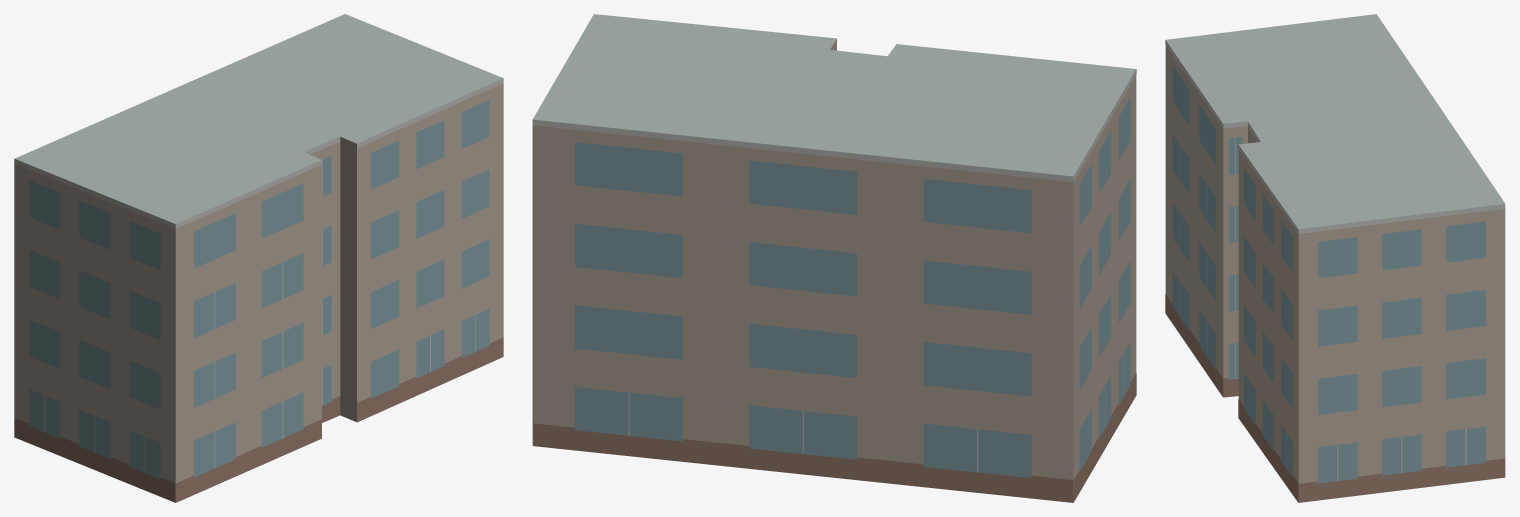
File: survey-upis-32986133.glb
3 renders of one model, left to right at view 1: azimuth 30°, elevation 25°; view 2: azimuth 150°, elevation 25°; view 3: azimuth 270°, elevation 25°, orthographic. The views are drawn at different scales.
Visible parts, largest first — view 1: survey-upis-32986133.tmp; view 2: survey-upis-32986133.tmp; view 3: survey-upis-32986133.tmp.
Boxes of the visible parts, <box> form: survey-upis-32986133.tmp: <box>14,14,503,502</box>; survey-upis-32986133.tmp: <box>532,14,1136,502</box>; survey-upis-32986133.tmp: <box>1165,14,1505,502</box>.
Size of the model in its own units: 23.63 by 14 by 15.77.
